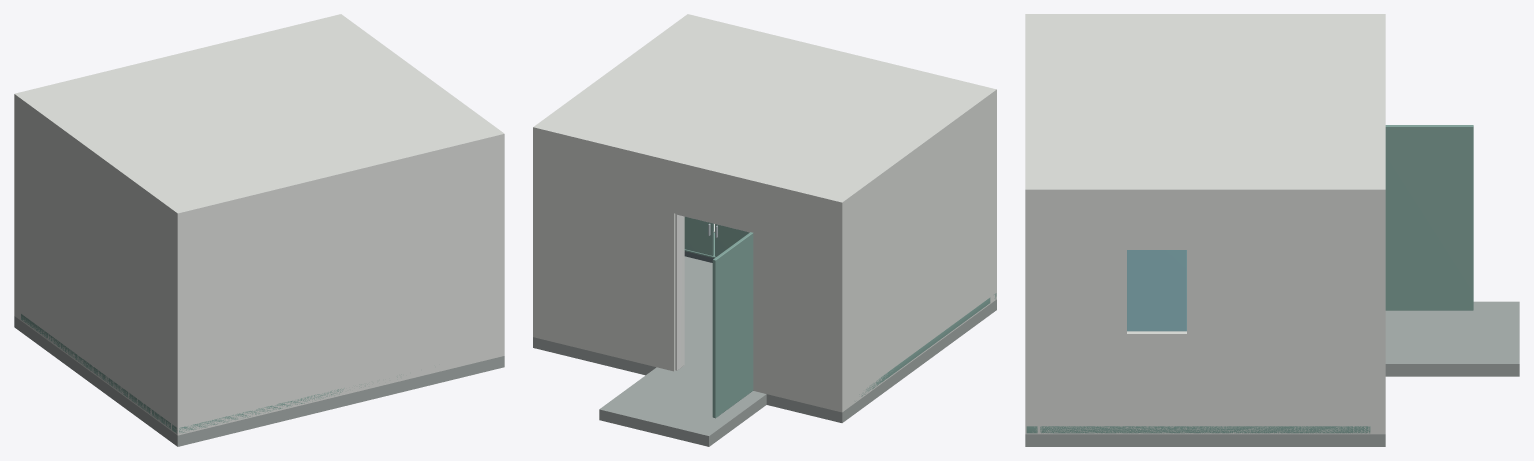
Rendered from Chemistry.fbx.
3 renders of one model, left to right at view 1: azimuth 30°, elevation 25°; view 2: azimuth 150°, elevation 25°; view 3: azimuth 270°, elevation 25°, orthographic. The views are drawn at different scales.
Visible parts, largest first — view 1: Wall-north.001, Ceiling.001, Wall-west.001, Floor.001, Wall-south.001, Coved-base-west.001, Coved-base-north.001; view 2: Wall-south.001, Ceiling.001, Wall-west.001, Entry-landing.001, Floor.001, Door-open.001, Door-jamb.003, Wall-north.001, CHEM-HOOD-base-door.001, Coved-base-west.001, CHEM-HOOD-base-door; view 3: Wall-east.001, Ceiling.001, Door-open.001, Entry-landing.001, Window-glazing.001, Floor.001, Wall-south.001, Wall-north.001, Coved-base-east.001.
Boxes of the visible parts, bbox=[...] form: Wall-north.001: bbox=[171, 143, 504, 435]; Ceiling.001: bbox=[14, 14, 504, 222]; Wall-west.001: bbox=[20, 107, 171, 430]; Floor.001: bbox=[14, 316, 504, 446]; Wall-south.001: bbox=[14, 103, 20, 319]; Coved-base-west.001: bbox=[21, 314, 170, 428]; Coved-base-north.001: bbox=[172, 374, 401, 433]; Wall-south.001: bbox=[533, 136, 848, 412]; Ceiling.001: bbox=[533, 14, 996, 210]; Wall-west.001: bbox=[848, 102, 990, 407]; Entry-landing.001: bbox=[599, 367, 766, 446]; Floor.001: bbox=[533, 256, 996, 422]; Door-open.001: bbox=[712, 232, 753, 418]; Door-jamb.003: bbox=[675, 213, 684, 370]; Wall-north.001: bbox=[991, 98, 996, 303]; CHEM-HOOD-base-door.001: bbox=[684, 216, 713, 255]; Coved-base-west.001: bbox=[855, 297, 990, 401]; CHEM-HOOD-base-door: bbox=[715, 224, 748, 256]; Wall-east.001: bbox=[1039, 200, 1371, 434]; Ceiling.001: bbox=[1025, 14, 1385, 199]; Door-open.001: bbox=[1385, 125, 1473, 310]; Entry-landing.001: bbox=[1385, 301, 1519, 376]; Window-glazing.001: bbox=[1127, 250, 1186, 331]; Floor.001: bbox=[1025, 434, 1385, 446]; Wall-south.001: bbox=[1372, 200, 1385, 434]; Wall-north.001: bbox=[1025, 200, 1038, 434]; Coved-base-east.001: bbox=[1040, 426, 1370, 433].
Bounding box in the file's own units: 450 × 307 × 535.
